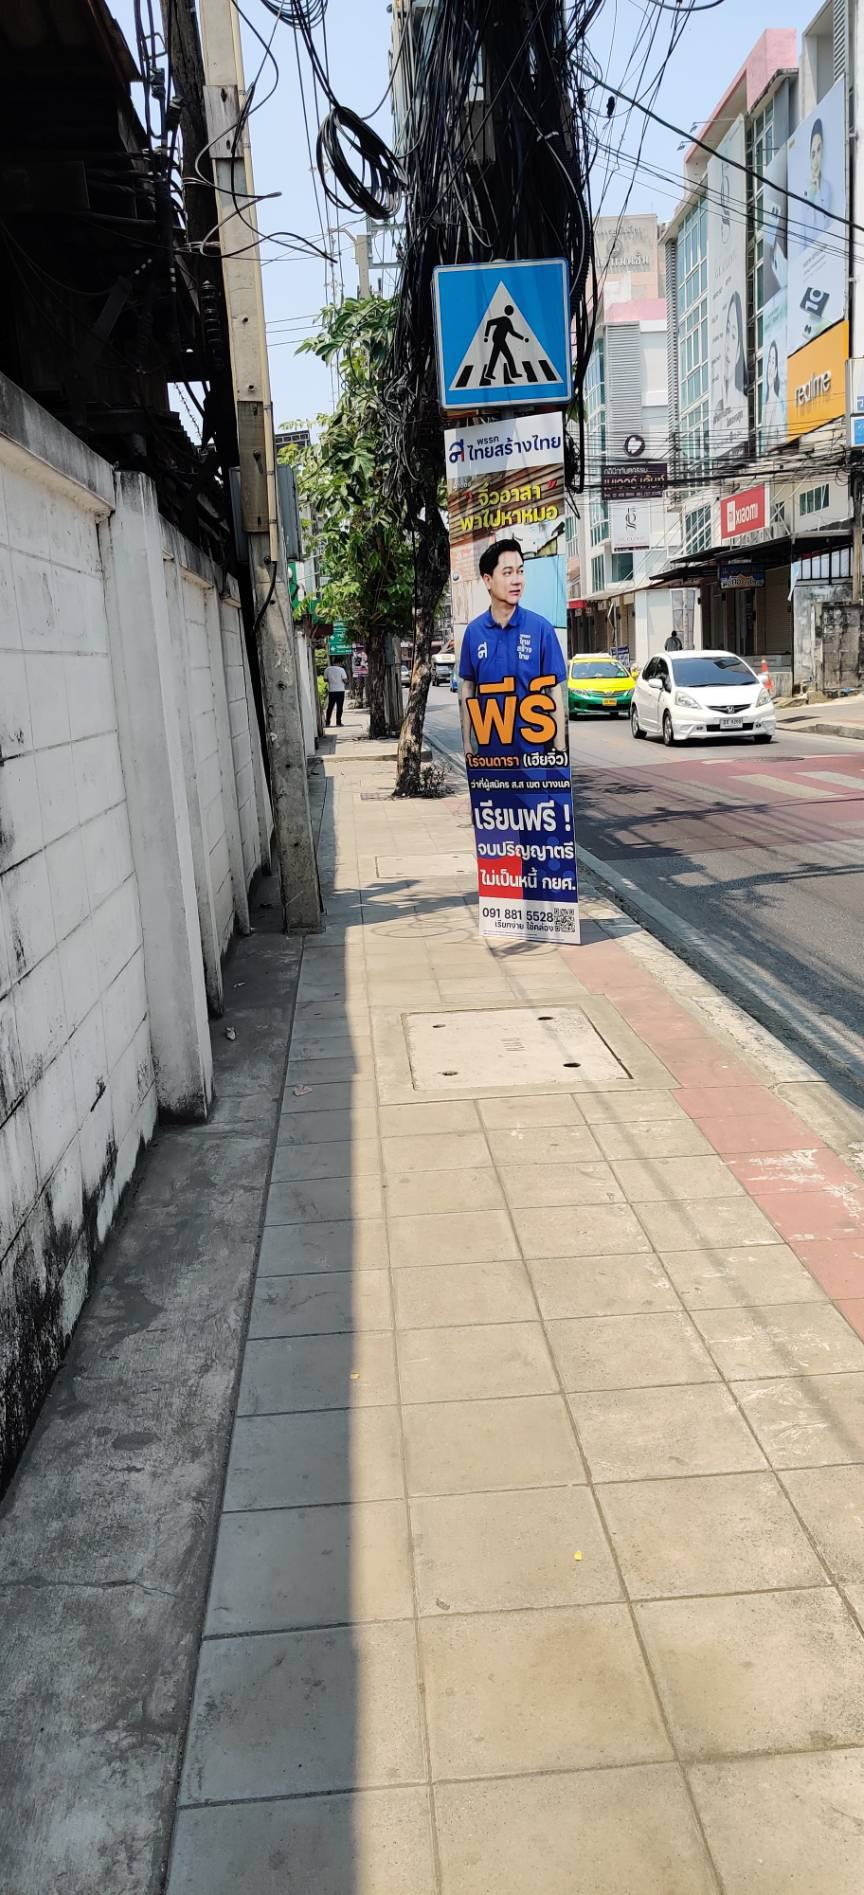Banner: (435, 410, 586, 972)
